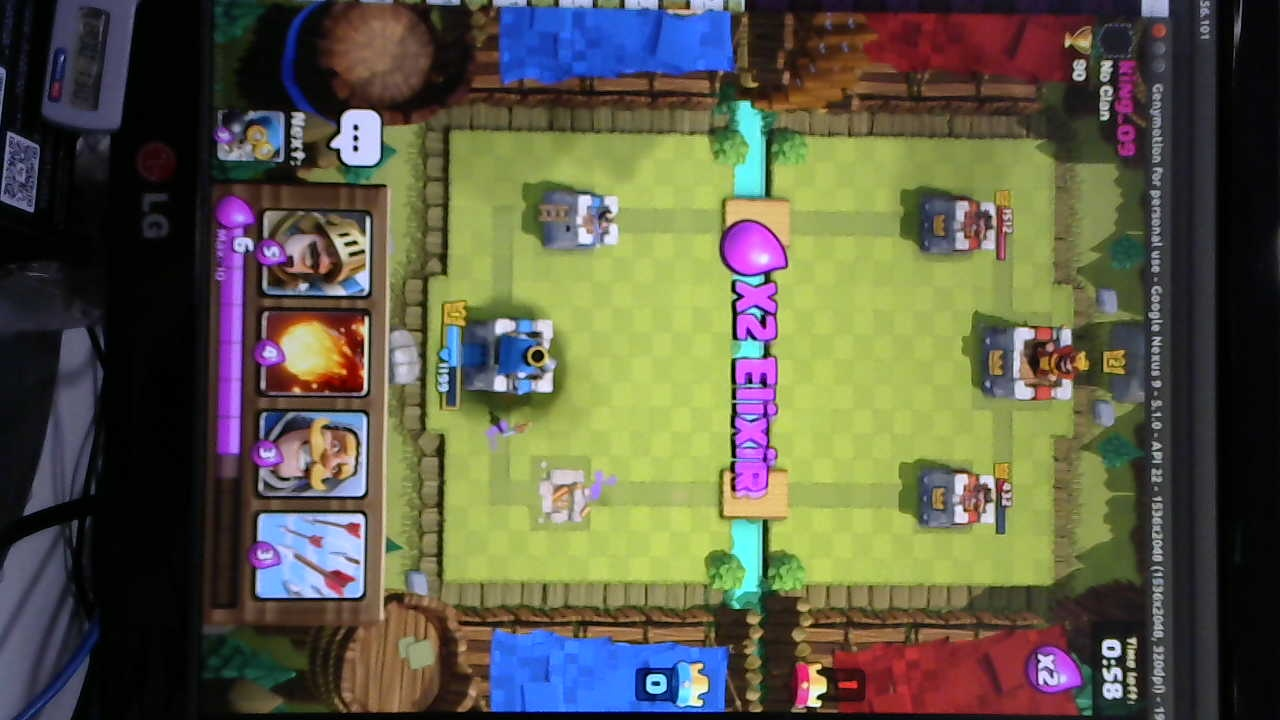arena: (539, 190, 622, 252)
darena: (539, 468, 593, 527)
earena: (918, 195, 1001, 257), (914, 474, 1001, 528)
eking: (984, 321, 1086, 404)
king: (469, 318, 558, 397)
